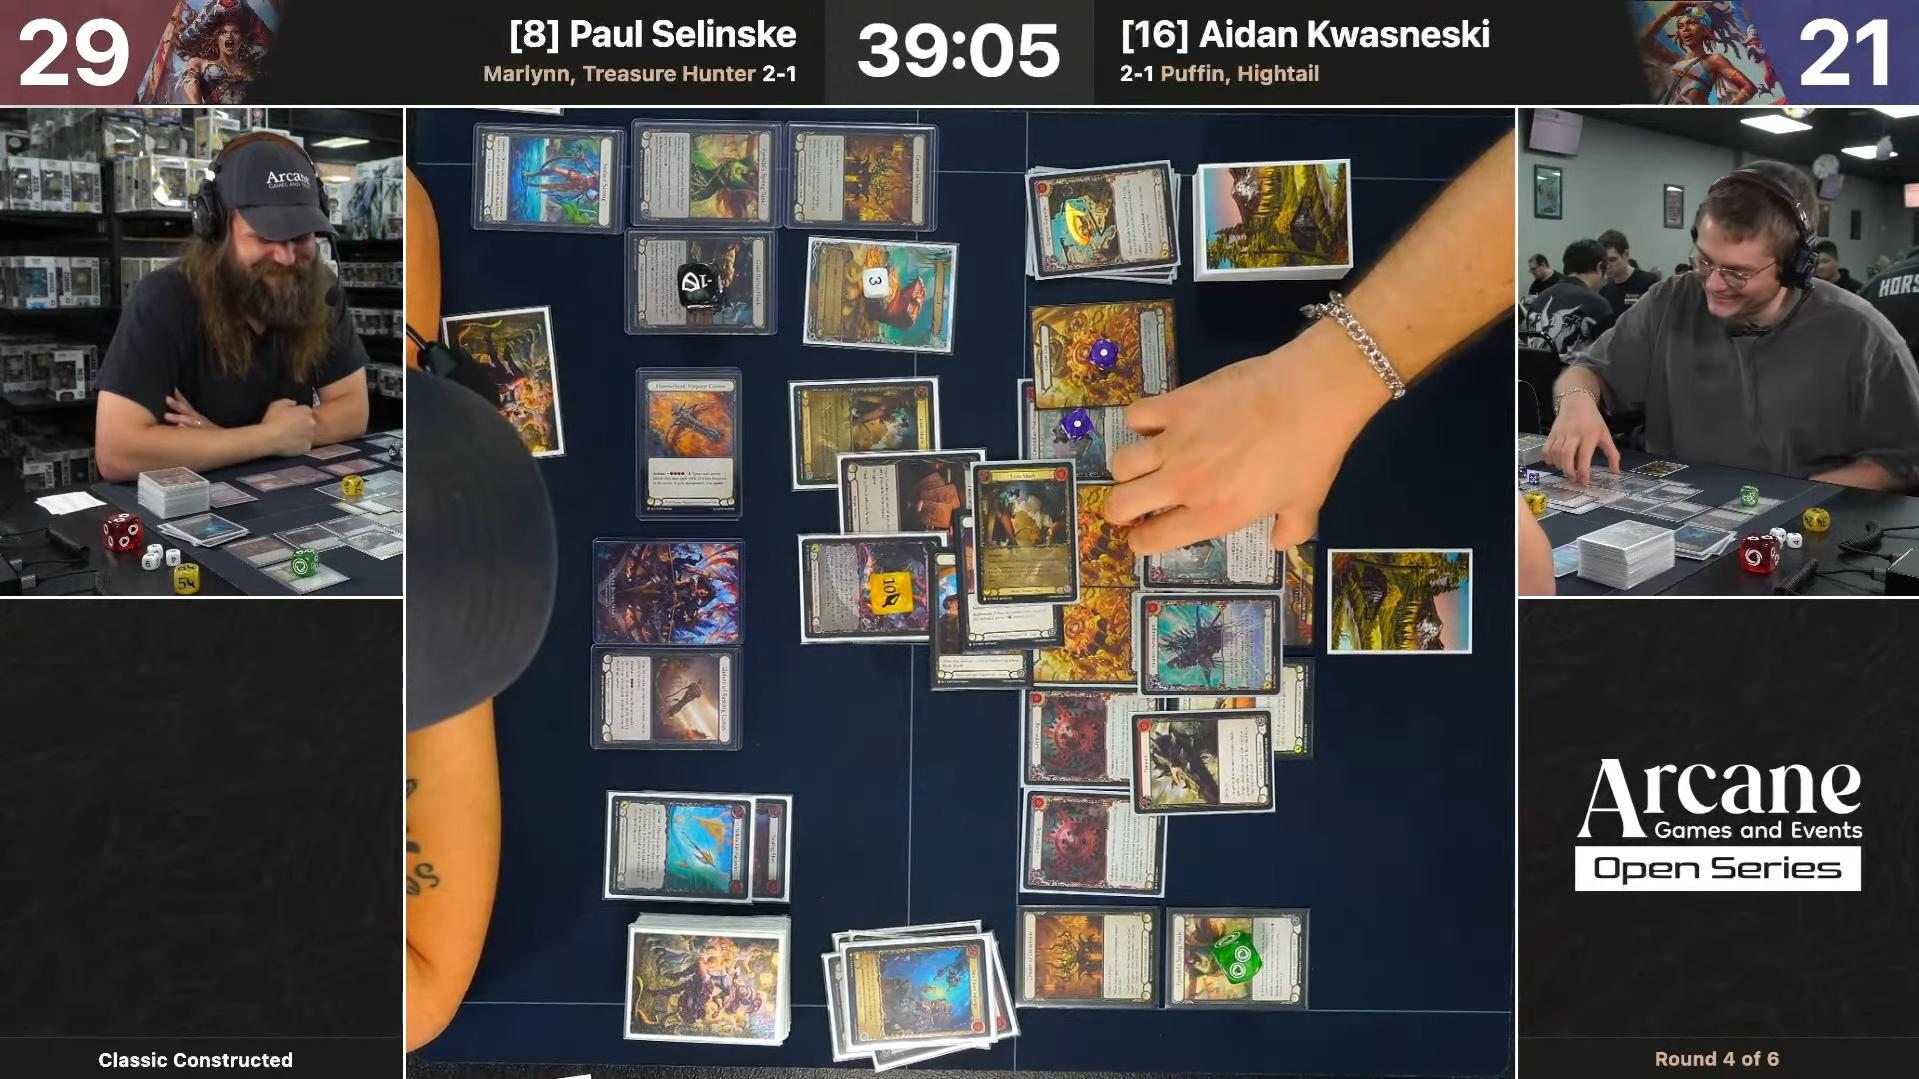Card: (818, 920, 1003, 1070), (788, 377, 945, 495), (1029, 159, 1176, 283), (956, 510, 1068, 663), (602, 785, 753, 899), (803, 235, 948, 350), (472, 120, 616, 235), (629, 117, 776, 228), (633, 366, 746, 510), (592, 535, 739, 643), (973, 457, 1079, 606), (787, 120, 927, 232), (1035, 296, 1176, 407), (797, 530, 934, 643), (1162, 905, 1309, 1009), (625, 228, 764, 335), (1016, 902, 1159, 1005), (1021, 790, 1159, 897), (590, 648, 739, 746), (1131, 707, 1272, 810), (1133, 588, 1278, 685), (1130, 497, 1275, 590), (1172, 661, 1315, 754), (931, 551, 1025, 685), (836, 451, 967, 541), (1029, 684, 1149, 779), (1040, 401, 1173, 480), (1044, 584, 1137, 678), (1075, 482, 1136, 586), (747, 790, 793, 904)
